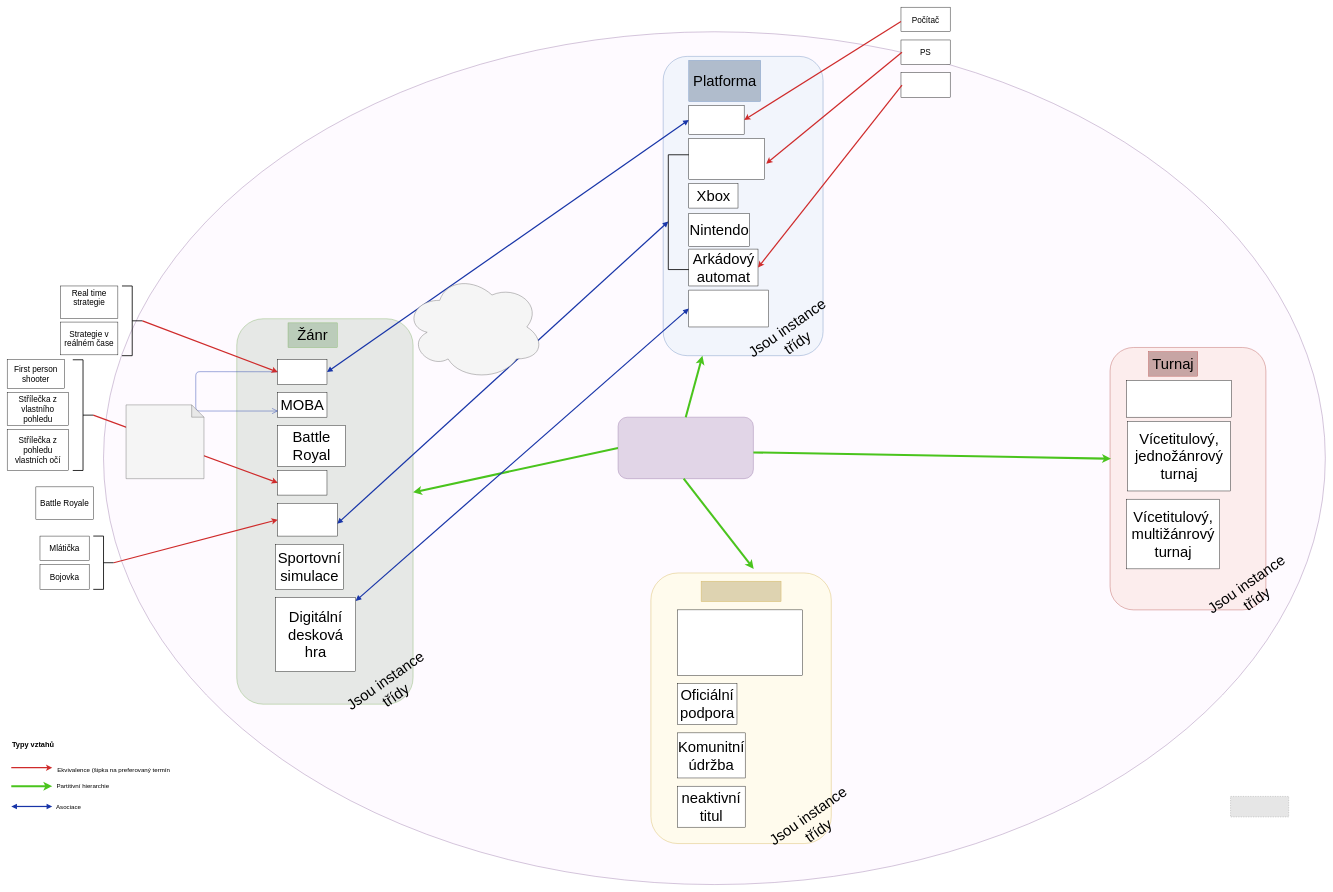
Image size: 1333x892. Some labels were removed from this diagram. Grey dashed boxes stand in for pictures. The centre of each missing label's shape, as x and y in pixels:
Elektronické sporty: point 685,448
Fighting game: point 307,519
FPS: point 302,482
Herní automat: point 925,84
Jednotitulový turnaj: point 1179,398
Komunita: point 741,591
Mobil/tablet: point 728,308
Oficiální podpora a vydávání nového obsahu: point 740,642
PC: point 716,119
PlayStation: point 726,158
RTS: point 302,371
Vztah: je obvykle hráno na: point 474,326
Z je odvozeno: point 165,441
